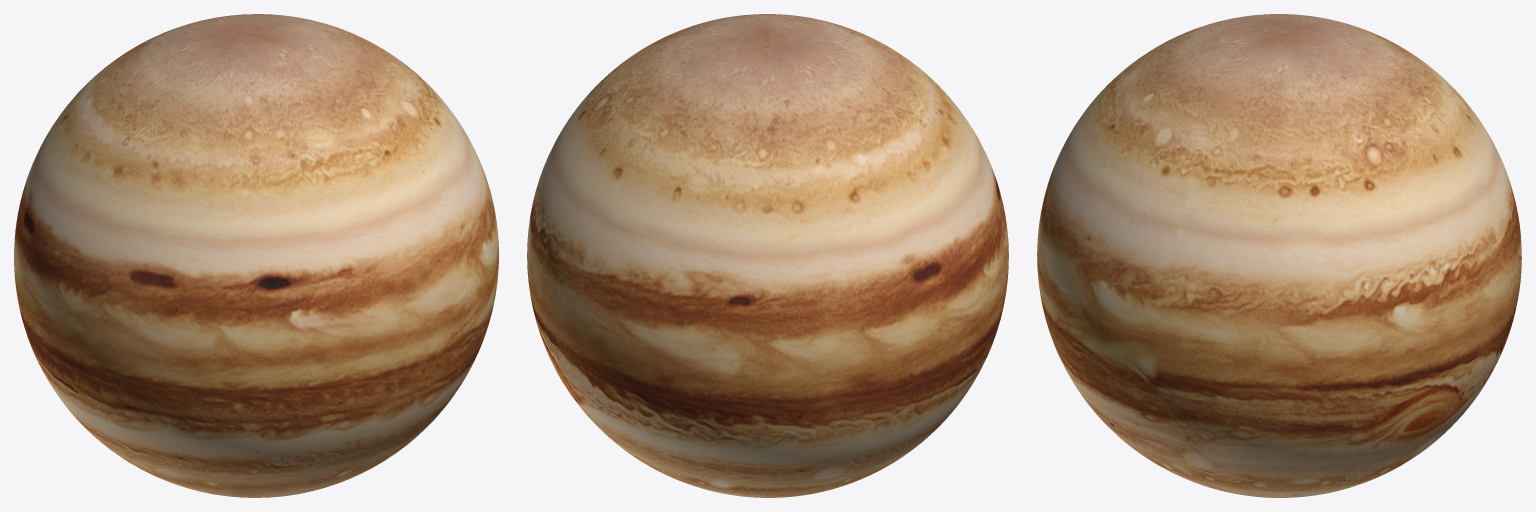
File: JUPITER.obj
3 views of the same model, side by side, from view 1: azimuth 30°, elevation 25°; view 2: azimuth 150°, elevation 25°; view 3: azimuth 270°, elevation 25° (orthographic).
Parts seen in each view (by area): view 1: Sphere.001; view 2: Sphere.001; view 3: Sphere.001.
Part boxes in pixels (x1,y1,x2,y2): Sphere.001: (14, 14, 498, 497); Sphere.001: (527, 14, 1008, 497); Sphere.001: (1037, 14, 1521, 497).
Bounding box in the file's own units: 4.03 × 4.03 × 4.03.
2 materials, 1 textured.
